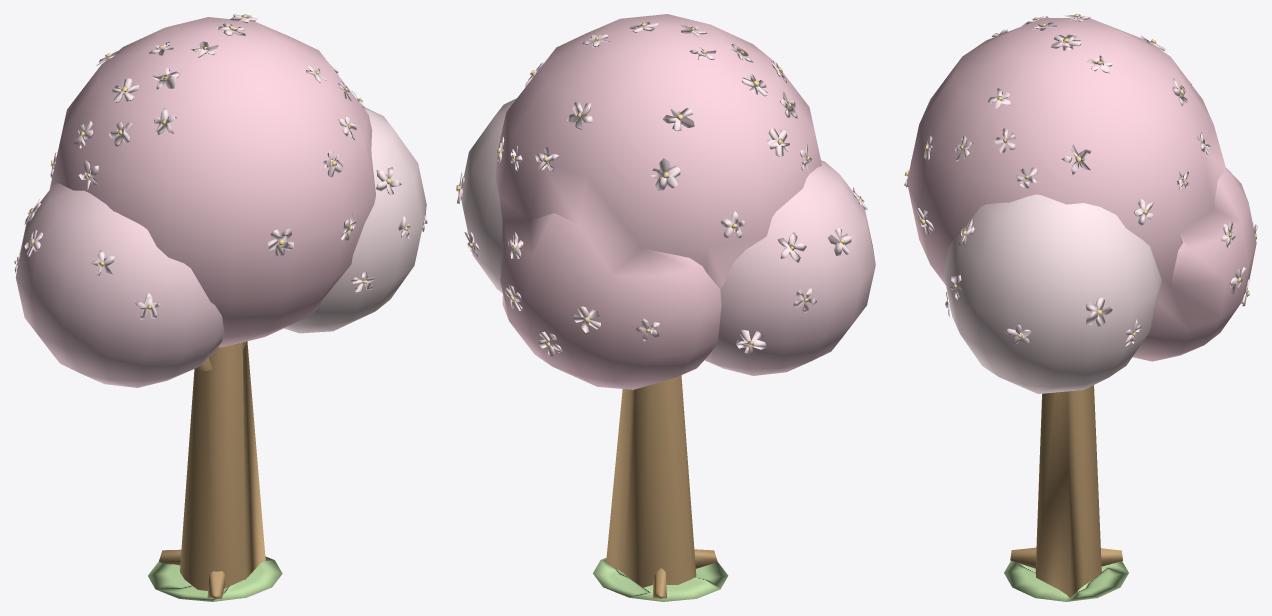
Rendered from tree_v1_spring_low.glb.
The picture shows the model from 3 angles, left to right: view 1: azimuth 30°, elevation 25°; view 2: azimuth 150°, elevation 25°; view 3: azimuth 270°, elevation 25°; orthographic projection.
Size of the model in its own units: 3.6 by 4.91 by 2.88.
